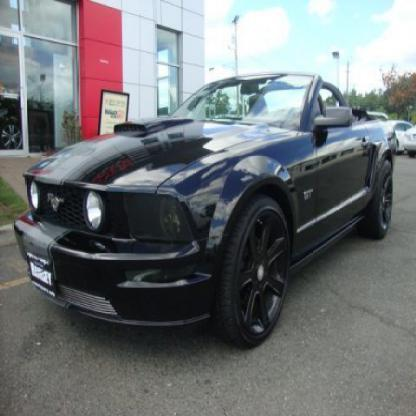car: (1, 42, 416, 355), (390, 123, 416, 158)
